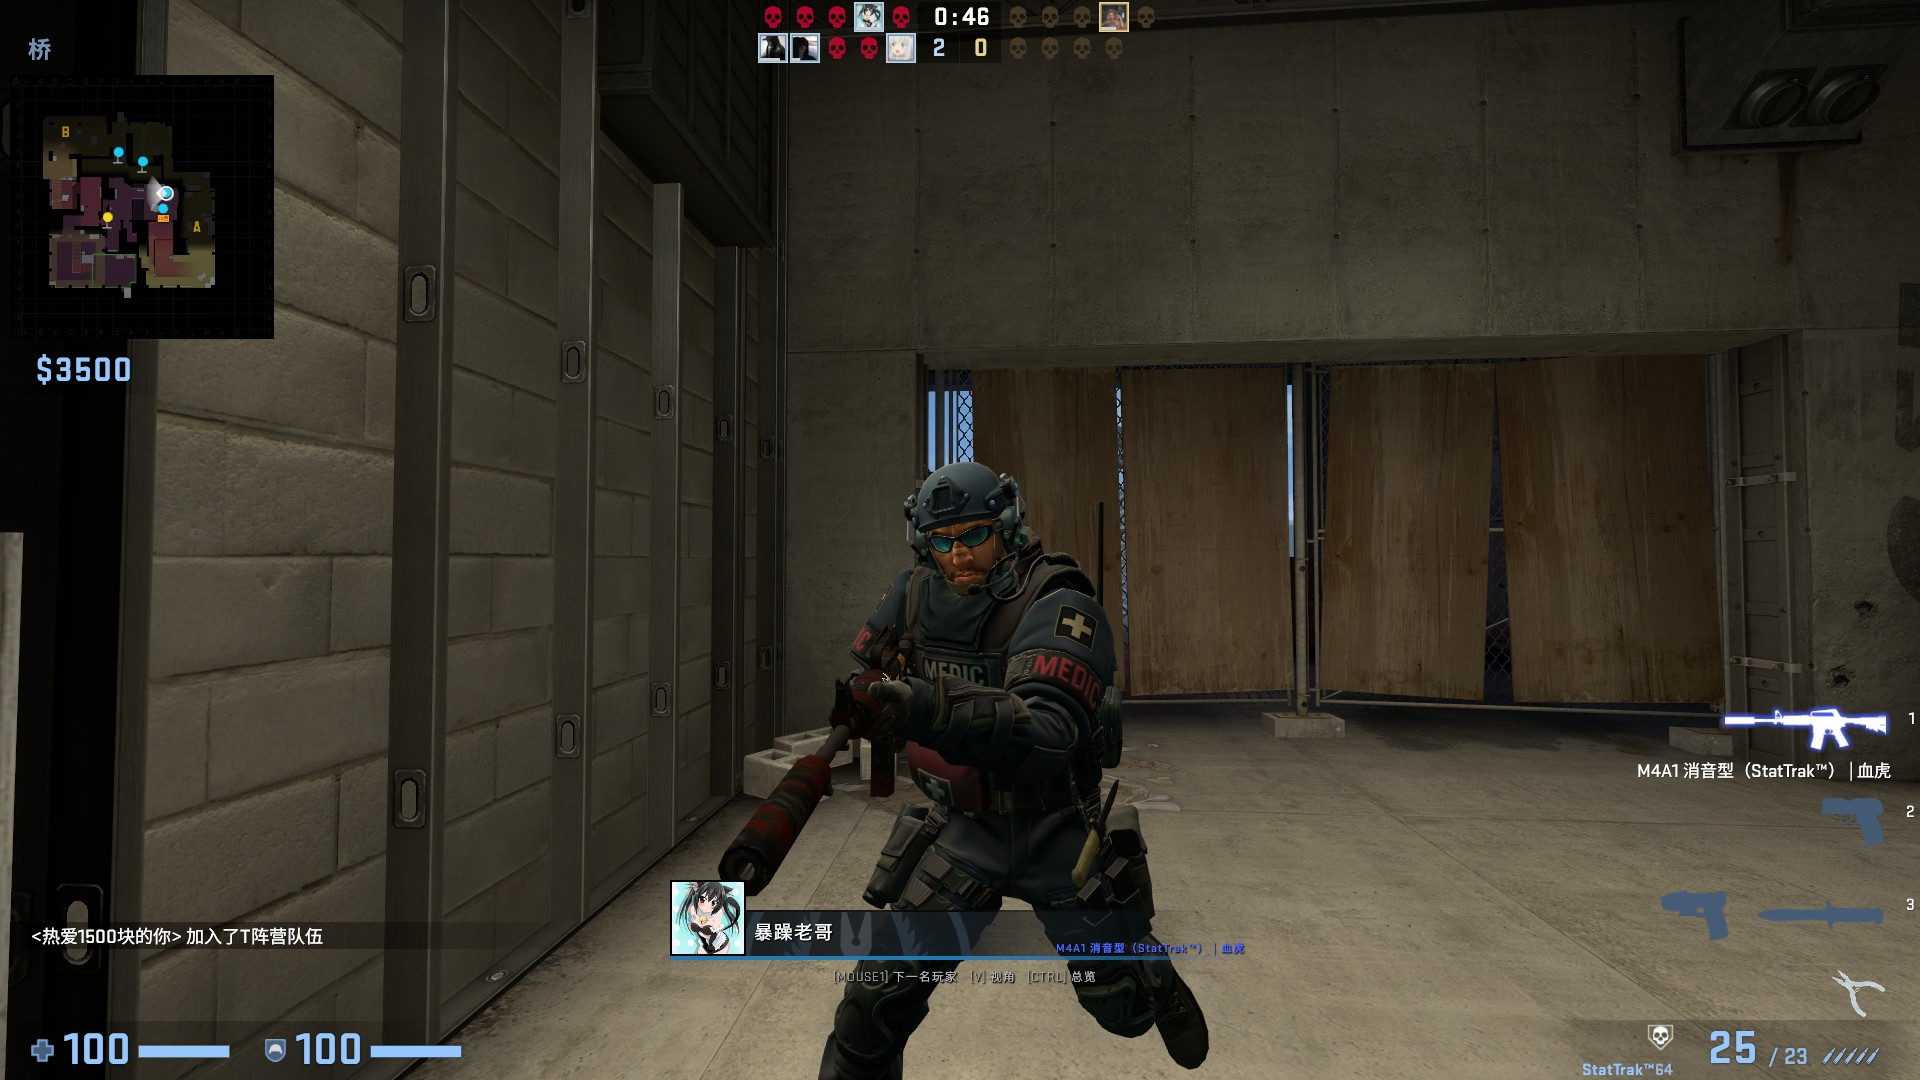head: (901, 456, 1028, 597)
